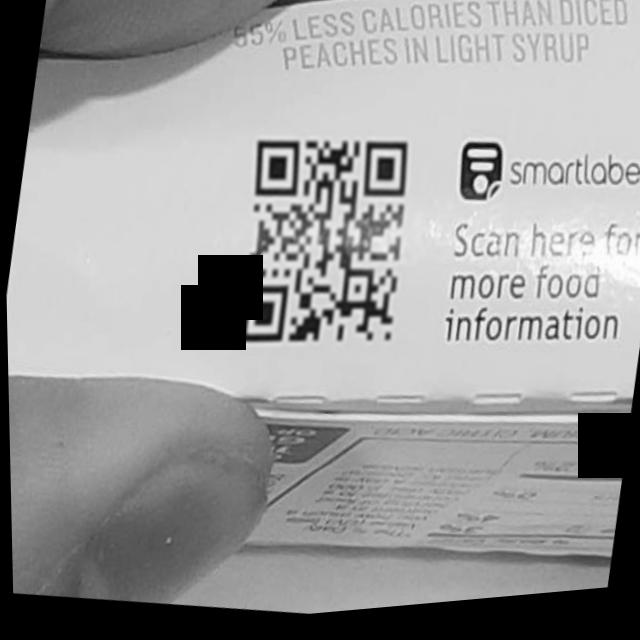QR_CODE: (207, 100, 439, 383)
